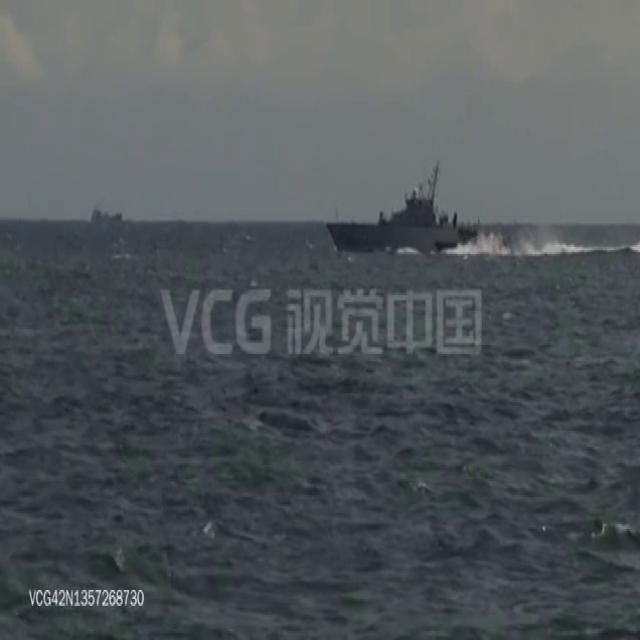navalvessels: (322, 167, 506, 258)
